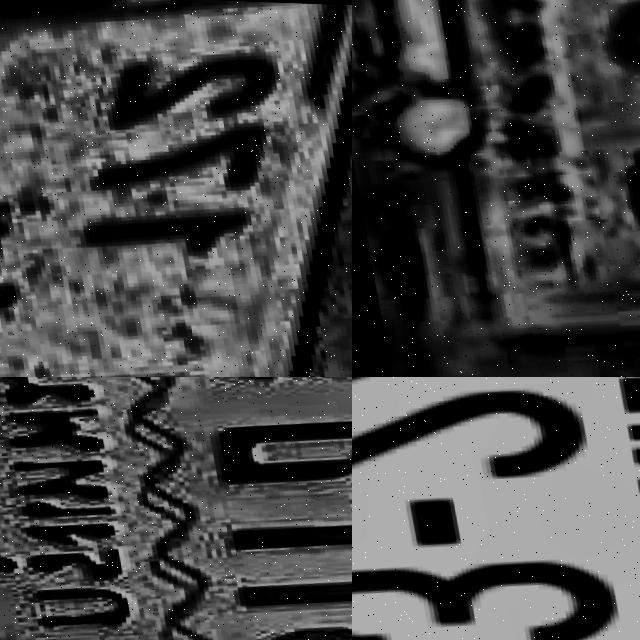license-plate: (0, 0, 352, 377), (352, 0, 640, 377), (0, 377, 352, 640), (352, 377, 640, 640)
